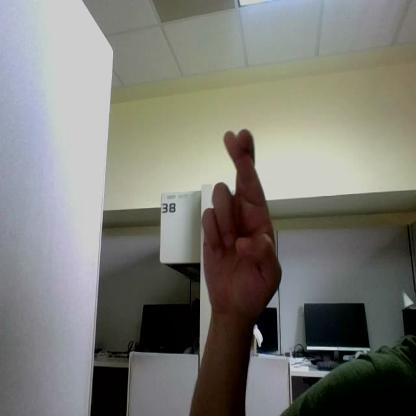R: (203, 129, 281, 310)
